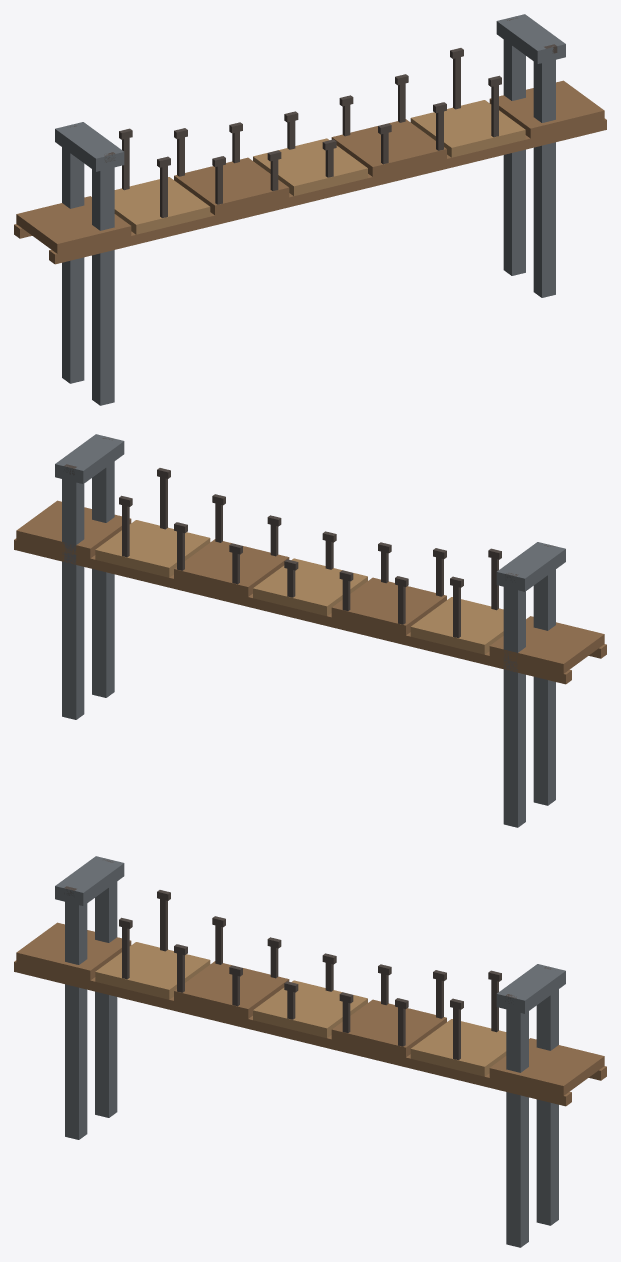
File: suspension-bridge.gltf
3 views of the same model, one above another, from view 1: azimuth 30°, elevation 25°; view 2: azimuth 150°, elevation 25°; view 3: azimuth 330°, elevation 25° (orthographic).
Parts seen in each view (by area): view 1: suspensionBridge; view 2: suspensionBridge; view 3: suspensionBridge.
Part boxes in pixels (x1=…): suspensionBridge: x1=14, y1=14, x2=606, y2=405; suspensionBridge: x1=14, y1=434, x2=606, y2=827; suspensionBridge: x1=14, y1=856, x2=606, y2=1247.
Bounding box in the file's own units: 7 × 3.04 × 0.9.
